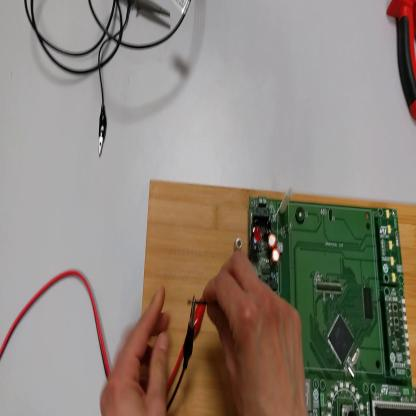hand: (203, 249, 311, 416), (103, 284, 172, 416)
low voltage board: (189, 198, 416, 415)
oscilloscope probe tip: (125, 2, 172, 21)
pliers: (388, 1, 416, 119)
working area: (140, 168, 416, 414)
